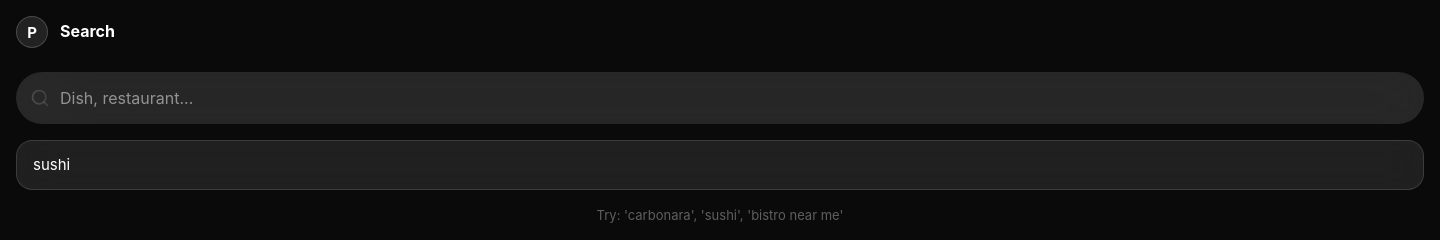
SearchScreen — recent searches › tapping a recent search populates the input
The image size is (1440, 240).
Click the button "sushi" at x=52, y=164, box [16,140,1424,190]
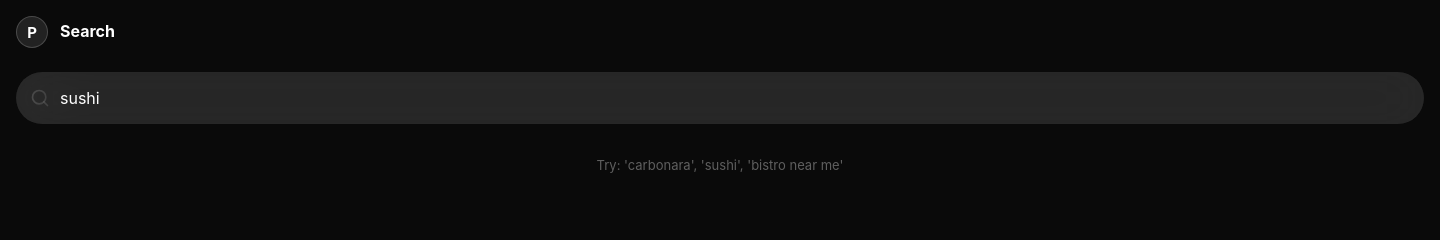
Result: the search field with placeholder "Dish, restaurant..." holds "sushi" at [16,72,1424,124]
